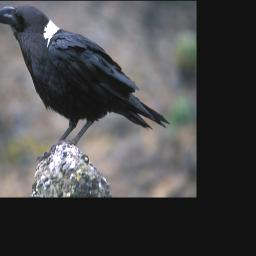Crow: (0, 5, 171, 164)
